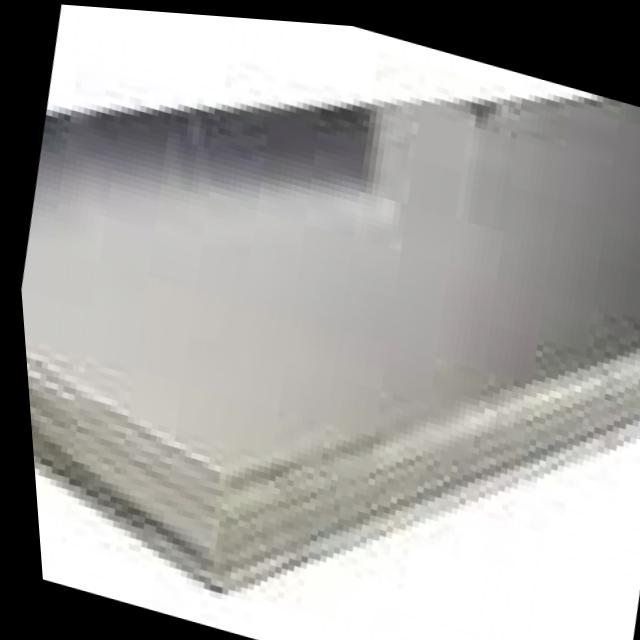metal-plates: (18, 86, 640, 599)
